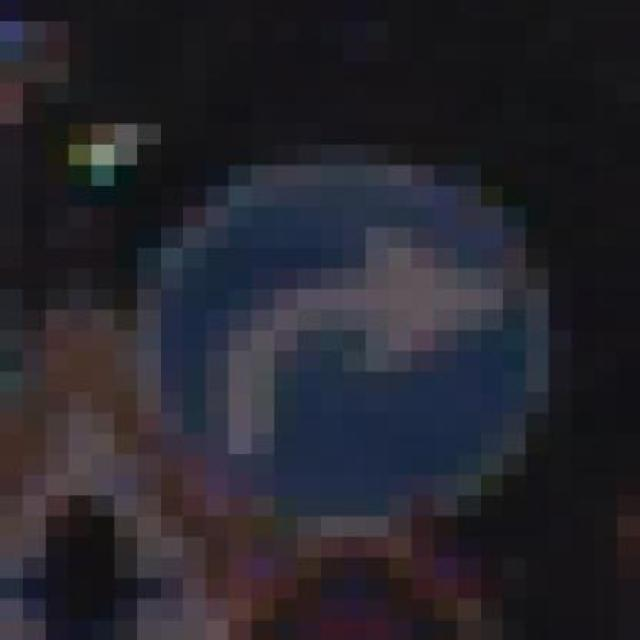Turn right ahead: (114, 124, 572, 558)
